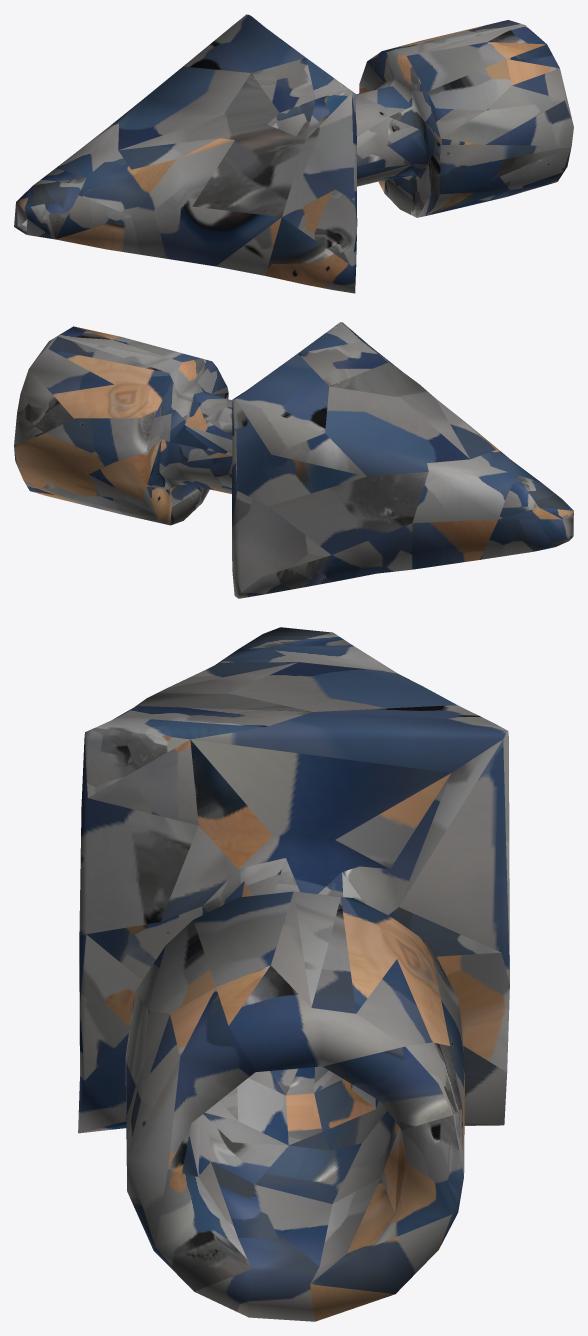
The model's file is 화살촉2.fbx.
3 views of the same model, one above another, from view 1: azimuth 30°, elevation 25°; view 2: azimuth 150°, elevation 25°; view 3: azimuth 270°, elevation 25° (orthographic). The views are drawn at different scales.
Parts seen in each view (by area): view 1: input; view 2: input; view 3: input.
Boxes of the visible parts, x1=… form: input: x1=14, y1=14, x2=573, y2=293; input: x1=14, y1=322, x2=573, y2=598; input: x1=78, y1=627, x2=509, y2=1321.
Size of the model in its own units: 57.79 by 21.7 by 21.02.
